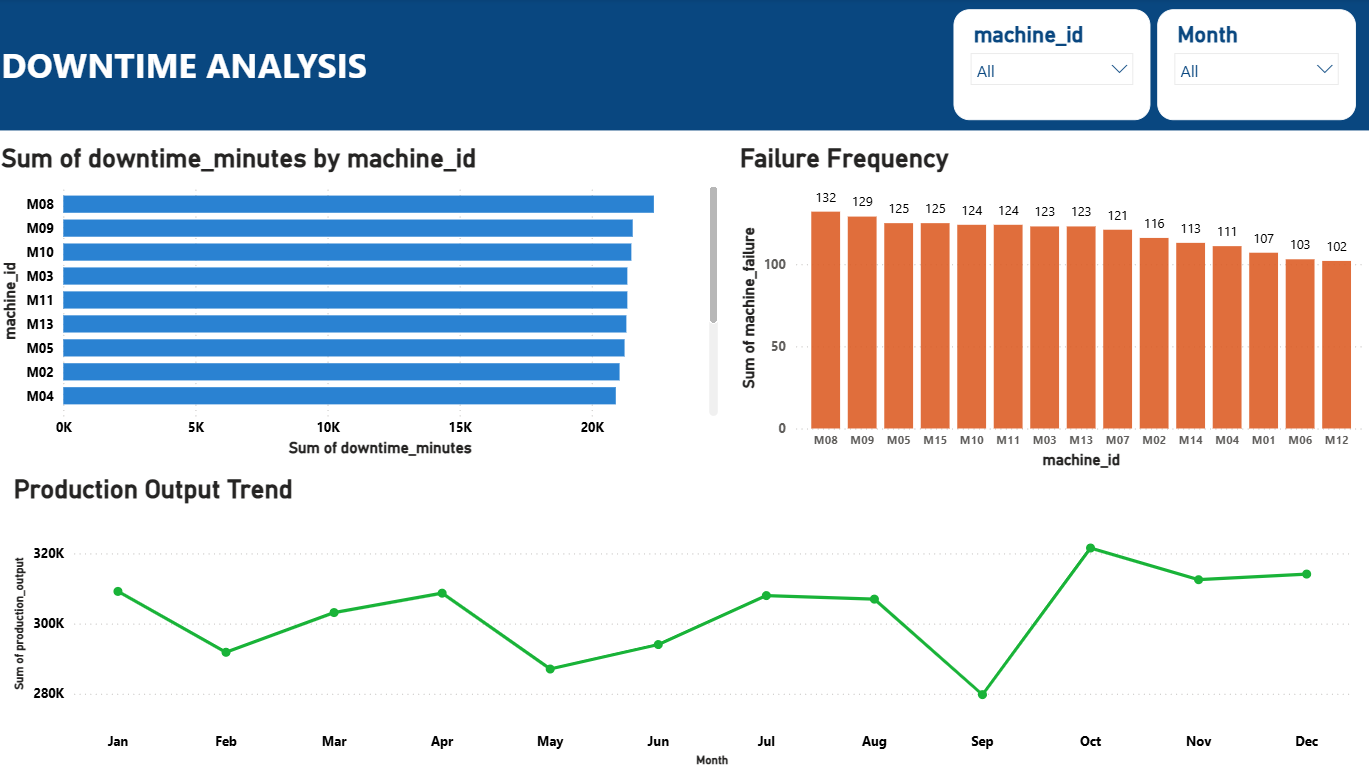

The dashboard page shown, as its layout file describes it:
{"tool":"powerbi","page":{"name":" Downtime Analysis","canvas":[1280,720],"ordinal":1},"visuals":[{"type":"clusteredBarChart","fields":{"Category":["manufacturing_downtime_dataset.machine_id"],"Y":["Sum(manufacturing_downtime_dataset.downtime_minutes)"]},"box":[0,135.1,676.6,296.9],"z":0},{"type":"textbox","box":[0,0,1279.7,123],"z":1},{"type":"slicer","fields":{"Values":["manufacturing_downtime_dataset.machine_id"]},"box":[890.6,10.7,183.2,103],"z":2},{"type":"slicer","fields":{"Values":["manufacturing_downtime_dataset.Month"]},"box":[1080.5,10.7,184.5,103],"z":3},{"type":"clusteredColumnChart","title":"Failure Frequency","fields":{"Category":["manufacturing_downtime_dataset.machine_id"],"Y":["Sum(manufacturing_downtime_dataset.machine_failure)"]},"box":[687.3,135.1,592.4,307.6],"z":4},{"type":"lineChart","title":"Production Output Trend","fields":{"Category":["manufacturing_downtime_dataset.Month"],"Y":["Sum(manufacturing_downtime_dataset.production_output)"]},"box":[12,442.6,1253,276.8],"z":5}]}

Visuals, with their boxes in screenshot pixels (x1, y1, x2, y2), scaled from the page's 1280x720 canvas onto the 1369x772 screenshot:
clusteredBarChart - manufacturing_downtime_dataset.machine_id x Sum(manufacturing_downtime_dataset.downtime_minutes): (x1=0, y1=145, x2=724, y2=463)
textbox: (x1=0, y1=0, x2=1368, y2=132)
slicer - manufacturing_downtime_dataset.machine_id: (x1=953, y1=11, x2=1148, y2=122)
slicer - manufacturing_downtime_dataset.Month: (x1=1156, y1=11, x2=1353, y2=122)
"Failure Frequency" clusteredColumnChart: (x1=735, y1=145, x2=1368, y2=475)
"Production Output Trend" lineChart: (x1=13, y1=475, x2=1353, y2=771)
